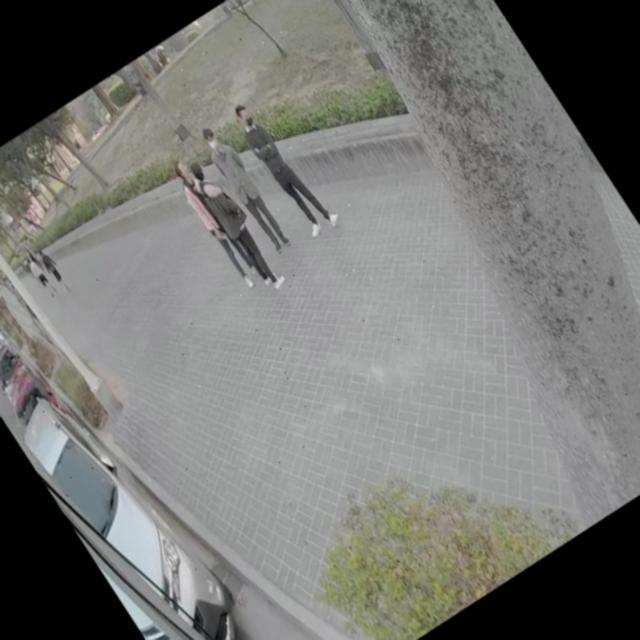person: (178, 150, 292, 300), (226, 93, 334, 239), (162, 152, 266, 292), (194, 118, 296, 256), (32, 241, 74, 297), (22, 248, 62, 300)
